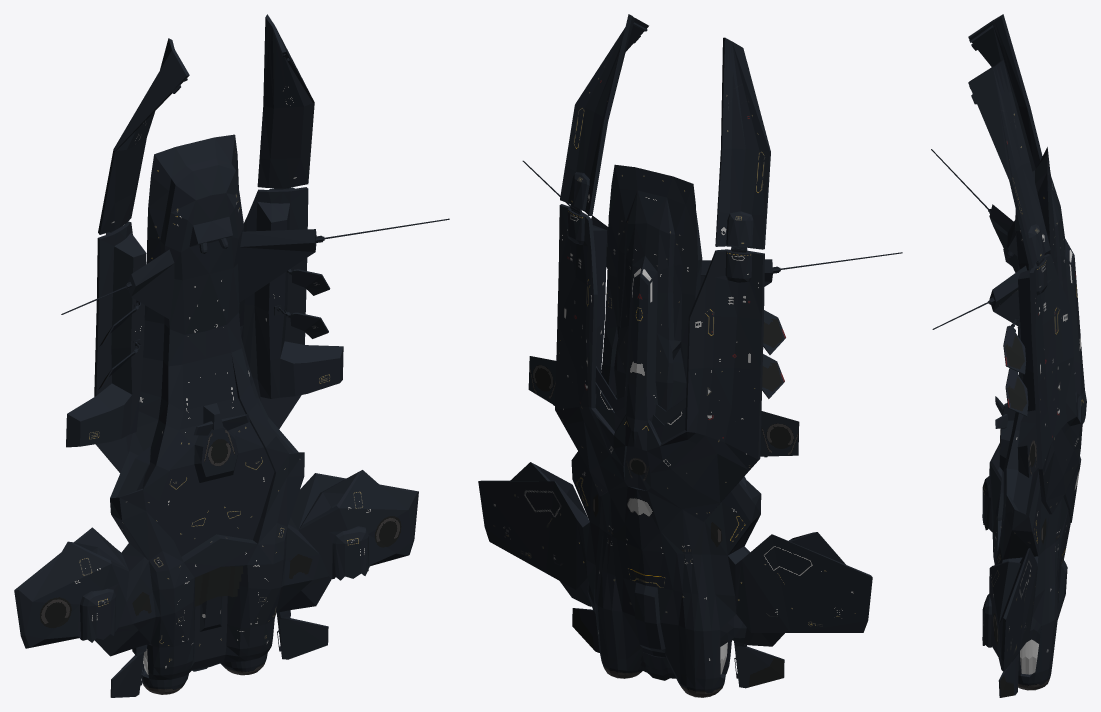
File: Garmur.obj
The picture shows the model from 3 angles, left to right: view 1: azimuth 30°, elevation 25°; view 2: azimuth 150°, elevation 25°; view 3: azimuth 270°, elevation 25°; orthographic projection. The views are drawn at different scales.
Visible parts, largest first — view 1: group_0; view 2: group_0; view 3: group_0, group_1.
Part boxes in pixels (left/top/right/bottom): group_0: left=14, top=14, right=449, bottom=697; group_0: left=478, top=14, right=902, bottom=697; group_0: left=931, top=14, right=1086, bottom=697; group_1: left=1020, top=639, right=1039, bottom=690.
Size of the model in its own units: 65.92 by 103 by 23.18.
